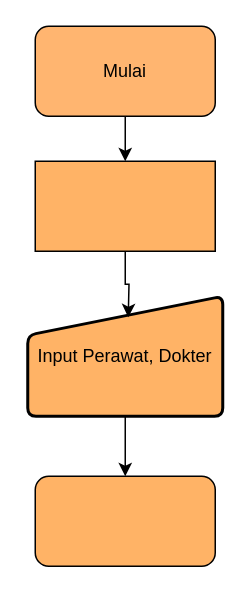
Image size: 249x593. Some labels were removed from this diagram. Each missing label, with the centre of its shape:
Login: (x=124, y=205)
Selesai: (x=124, y=520)
